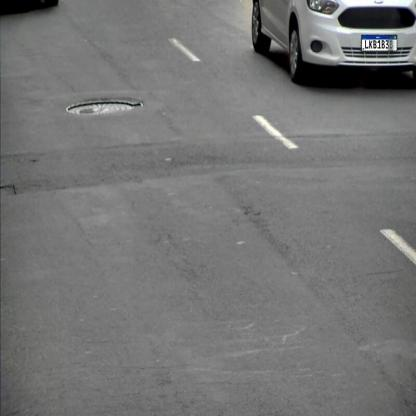PlacaM: (362, 35, 398, 51)
